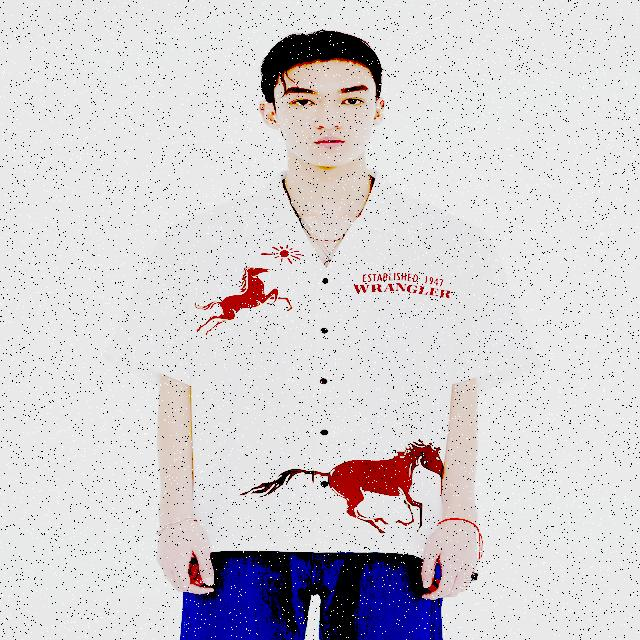dress: (112, 176, 543, 562)
